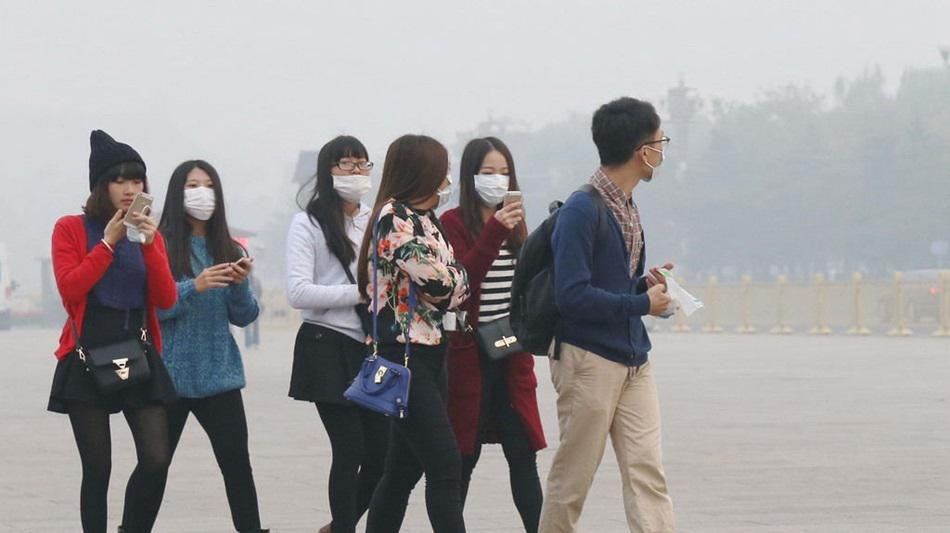NONE: (105, 169, 149, 213)
OK: (474, 161, 517, 204), (181, 176, 221, 218), (634, 131, 668, 180), (430, 161, 457, 208)
WRONG: (331, 156, 375, 200)
